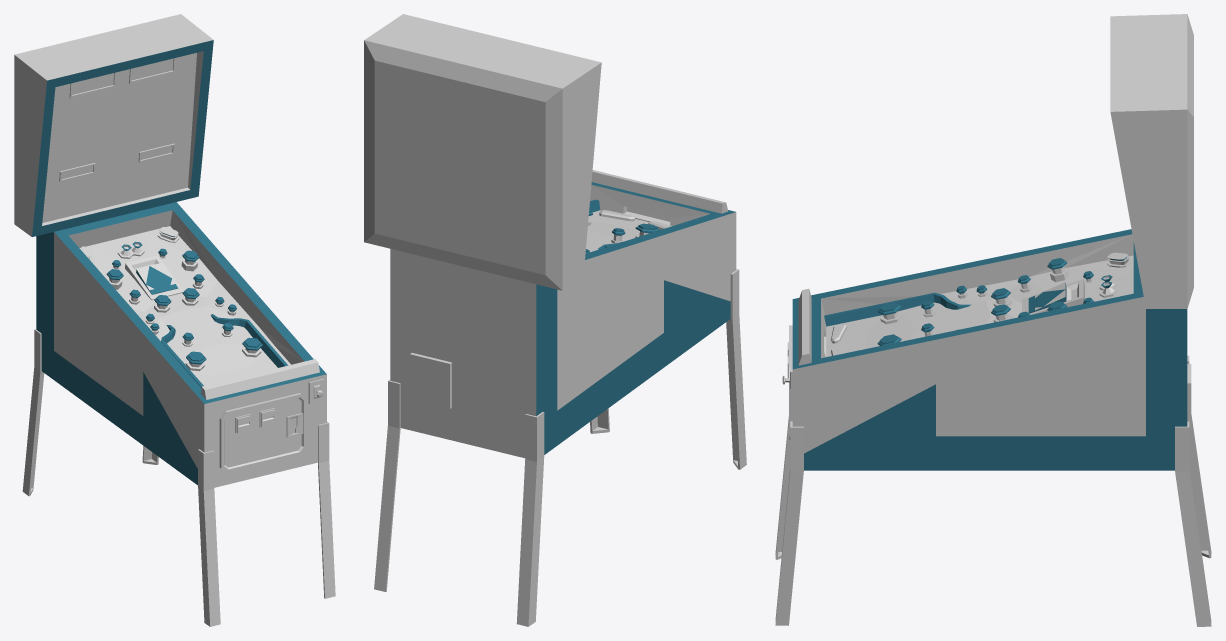
The model's file is 02_arcade_machine_V6.glb.
The picture shows the model from 3 angles, left to right: view 1: azimuth 30°, elevation 25°; view 2: azimuth 150°, elevation 25°; view 3: azimuth 270°, elevation 25°; orthographic projection. The views are drawn at different scales.
Visible parts, largest first — view 1: PinballMachineV1_WO_Glass; view 2: PinballMachineV1_WO_Glass; view 3: PinballMachineV1_WO_Glass.
Part boxes in pixels (left/top/right/bottom): PinballMachineV1_WO_Glass: left=14, top=14, right=335, bottom=626; PinballMachineV1_WO_Glass: left=364, top=14, right=746, bottom=626; PinballMachineV1_WO_Glass: left=775, top=14, right=1211, bottom=626.
Bounding box in the file's own units: 0.8808 × 2.27 × 1.7.
